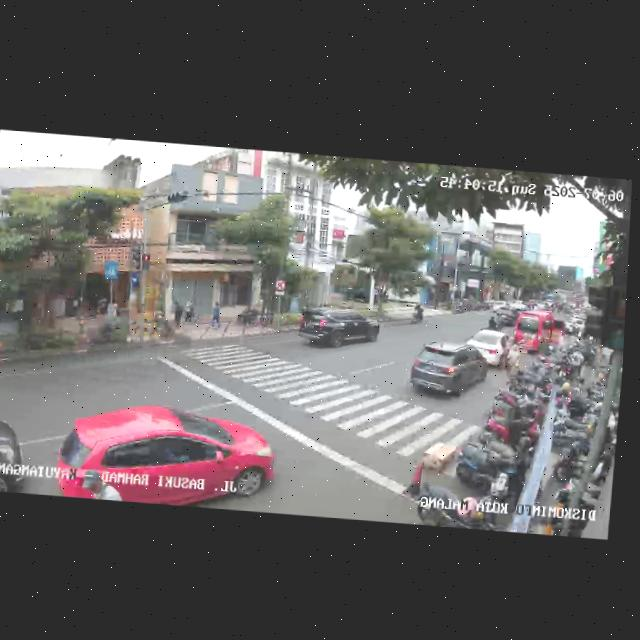car: (53, 398, 278, 512), (406, 337, 490, 404), (296, 303, 378, 354), (513, 307, 568, 354), (0, 406, 29, 492), (463, 327, 513, 369), (494, 303, 518, 325)
motorcycle: (487, 311, 501, 331)
